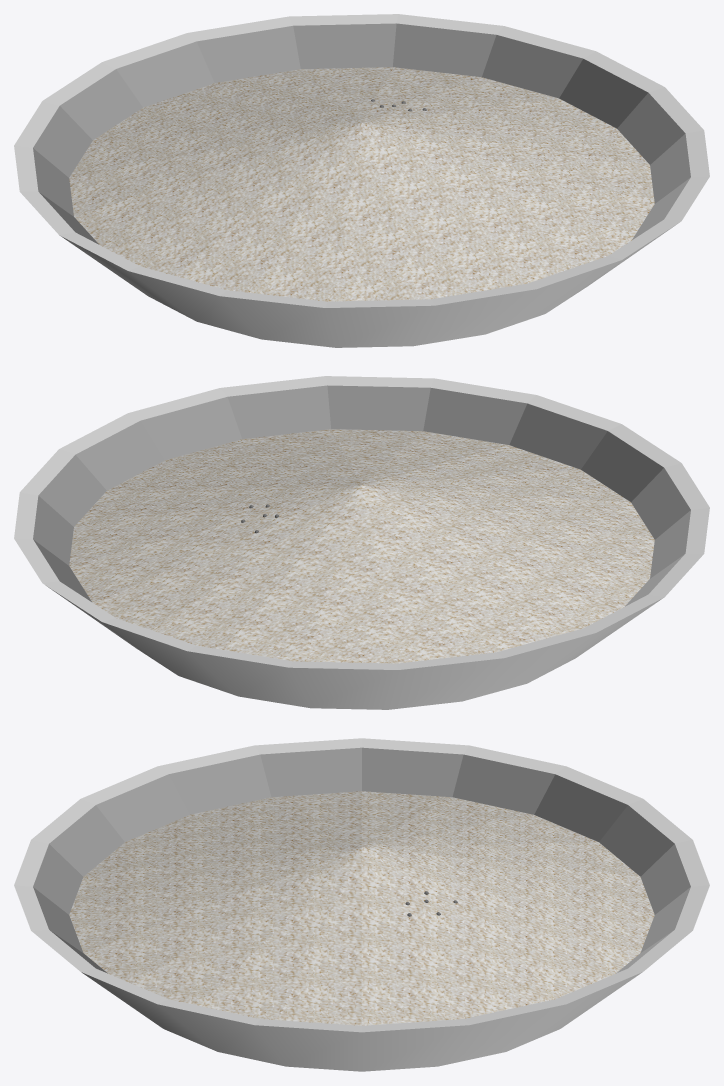
The model's file is rice.fbx.
3 renders of one model, top to bottom at view 1: azimuth 30°, elevation 25°; view 2: azimuth 150°, elevation 25°; view 3: azimuth 270°, elevation 25°, orthographic.
Parts seen in each view (by area): view 1: rice1, box; view 2: rice1, box; view 3: rice1, box.
Part boxes in pixels (x1,y1,x2,y2): rice1: (69,67,654,301); box: (14,14,709,347); rice1: (69,429,654,663); box: (14,376,709,709); rice1: (69,791,654,1025); box: (14,738,709,1071).
Bounding box in the file's own units: 56.67 × 10.82 × 56.68.
Materials: 3 (1 with a texture image).
